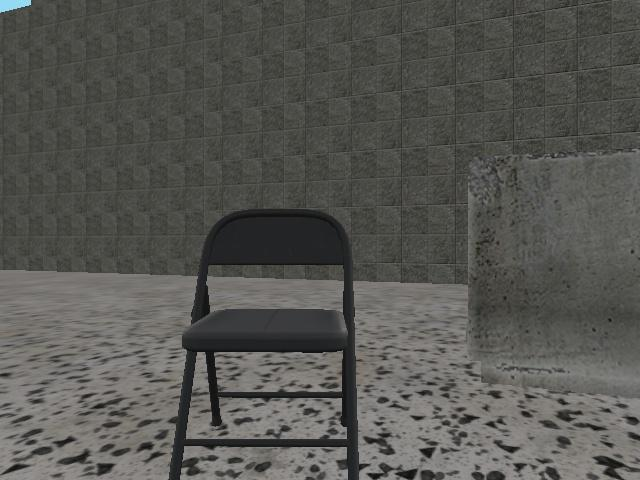chair: (169, 209, 359, 480)
